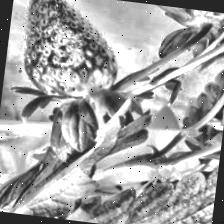Powdery Mildew Fruit: (15, 0, 125, 104)
